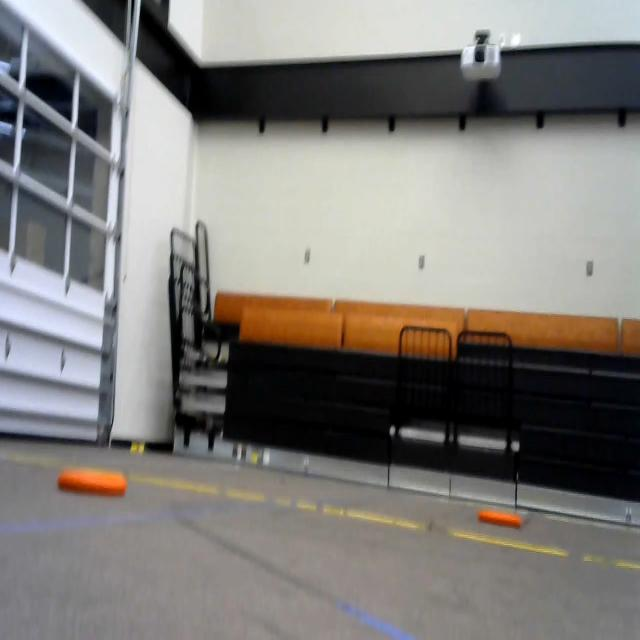note: (53, 460, 132, 517), (476, 504, 531, 540)
